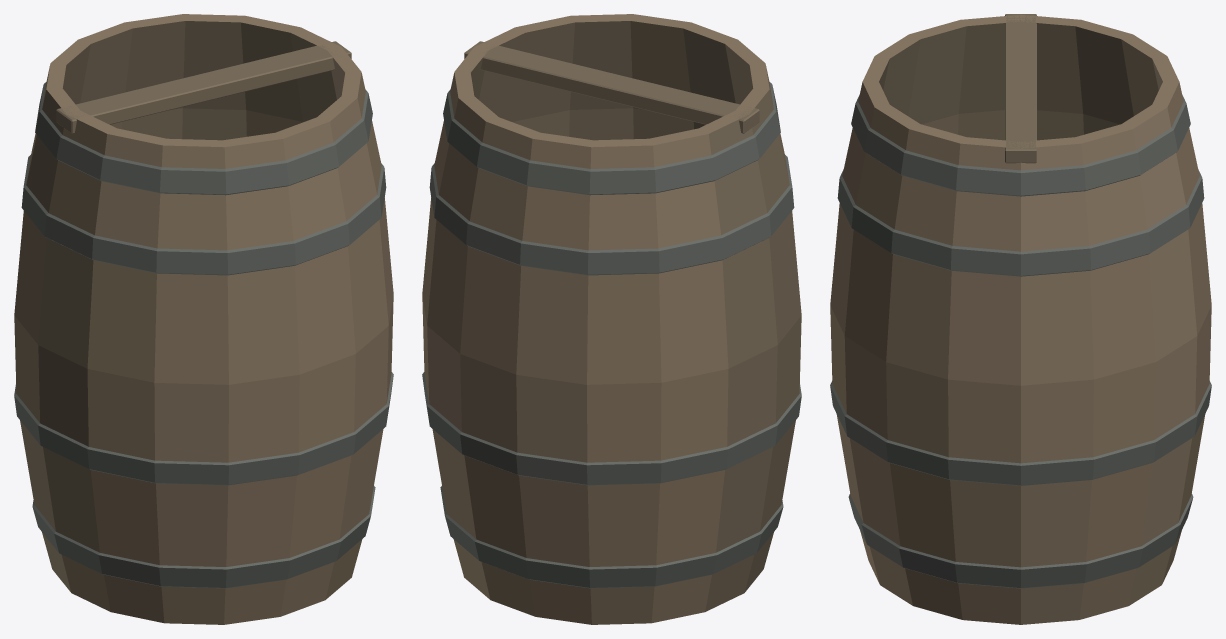
Rendered from env_barrel_v07_open_crossbar.glb.
3 renders of one model, left to right at view 1: azimuth 30°, elevation 25°; view 2: azimuth 150°, elevation 25°; view 3: azimuth 270°, elevation 25°, orthographic.
Parts seen in each view (by area): view 1: material_0, material_2, material_3; view 2: material_0, material_2, material_3, material_5; view 3: material_0, material_5, material_3, material_2.
Boxes of the visible parts, x1,y1,x2,y2 form: material_0: [26, 14, 393, 624]; material_2: [14, 21, 351, 611]; material_3: [14, 82, 393, 588]; material_0: [422, 14, 789, 624]; material_2: [464, 21, 801, 611]; material_3: [422, 82, 801, 588]; material_5: [427, 98, 490, 599]; material_0: [830, 14, 1211, 624]; material_5: [1021, 107, 1197, 624]; material_3: [830, 95, 1211, 588]; material_2: [879, 14, 1162, 163].
Size of the model in its own units: 0.6505 by 0.9 by 0.6505.
